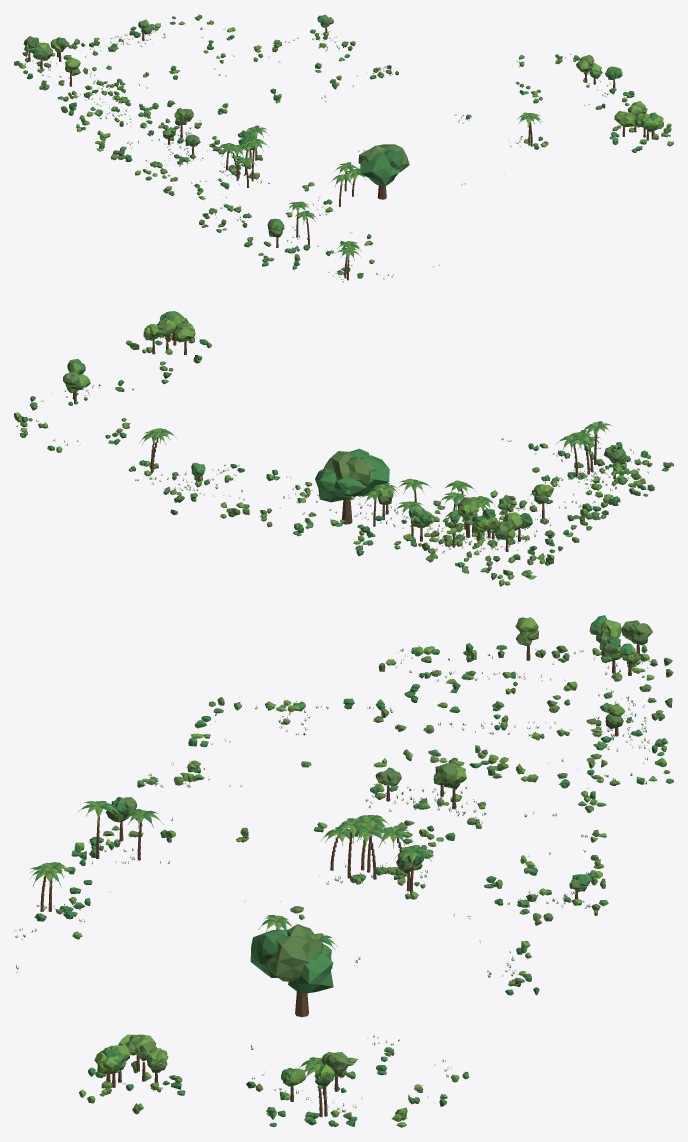
The model's file is vegetation.glb.
The picture shows the model from 3 angles, top to bottom: view 1: azimuth 30°, elevation 25°; view 2: azimuth 150°, elevation 25°; view 3: azimuth 270°, elevation 25°; orthographic projection. The views are drawn at different scales.
Parts seen in each view (by area): view 1: LT_VEG; view 2: LT_VEG; view 3: LT_VEG.
Part boxes in pixels (x1=…): LT_VEG: x1=14, y1=14, x2=673, y2=282; LT_VEG: x1=14, y1=311, x2=673, y2=586; LT_VEG: x1=14, y1=615, x2=673, y2=1127.
Bounding box in the file's own units: 87.66 × 23.56 × 64.31.
